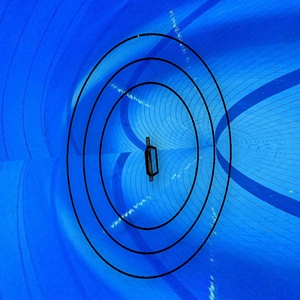circle: (64, 32, 234, 284)
submarine: (139, 133, 169, 187)
